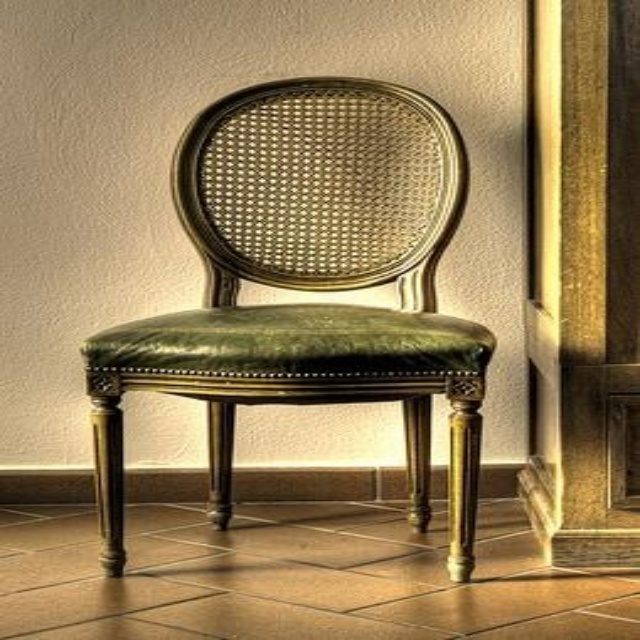obstacle: (81, 77, 492, 580)
